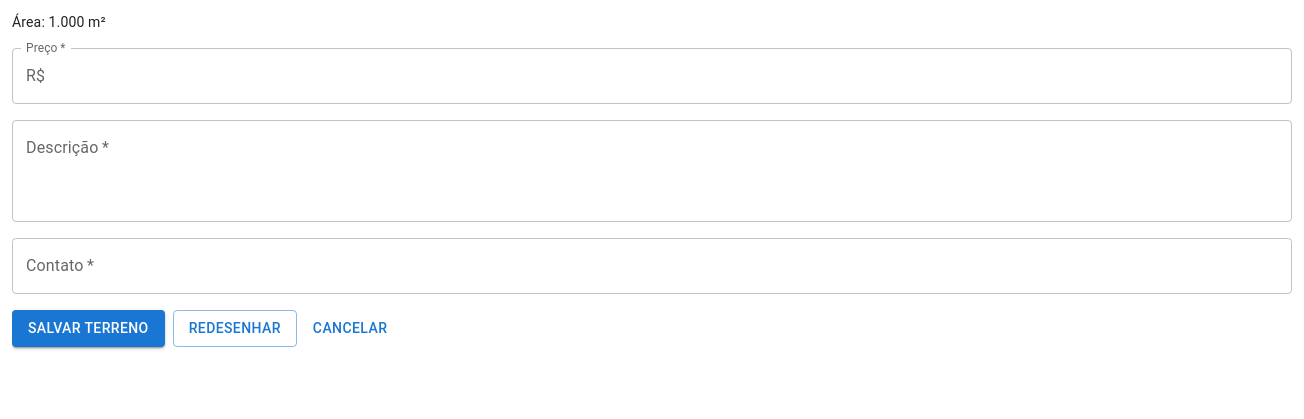
it: PlotForm › shows an API error on its field until the user fixes that field
In the field labelled "Preço *": (673, 76) [53,48,1292,104], type "10"
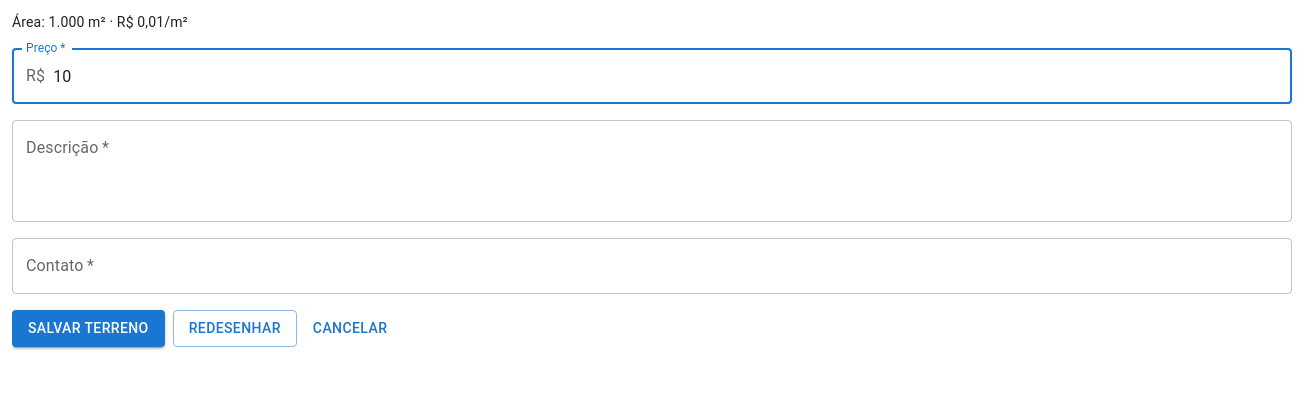
In the text box labelled "Descrição *": (652, 171) [26,136,1278,206], type "Corner plot"
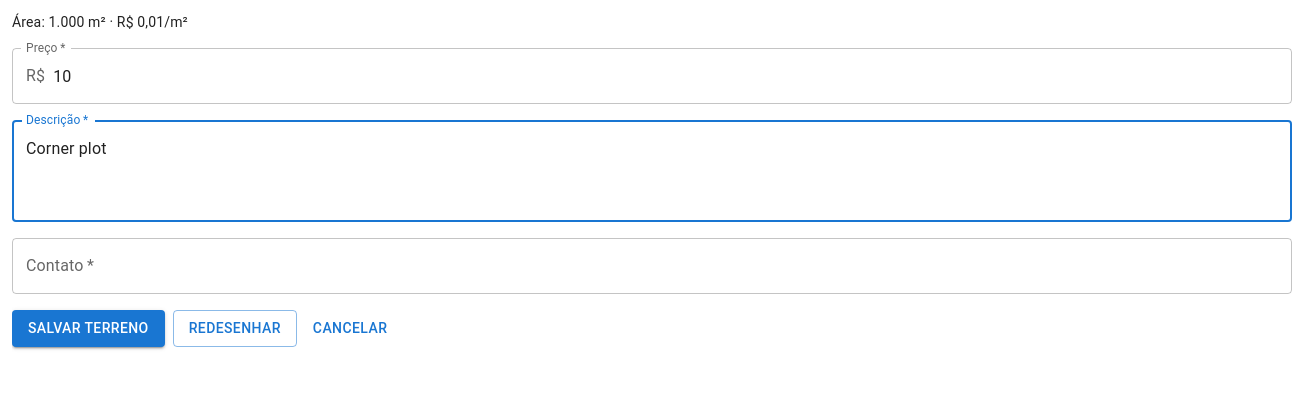
In the field labelled "Contato *": (652, 266) [12,238,1292,294], type "seller@example.com"
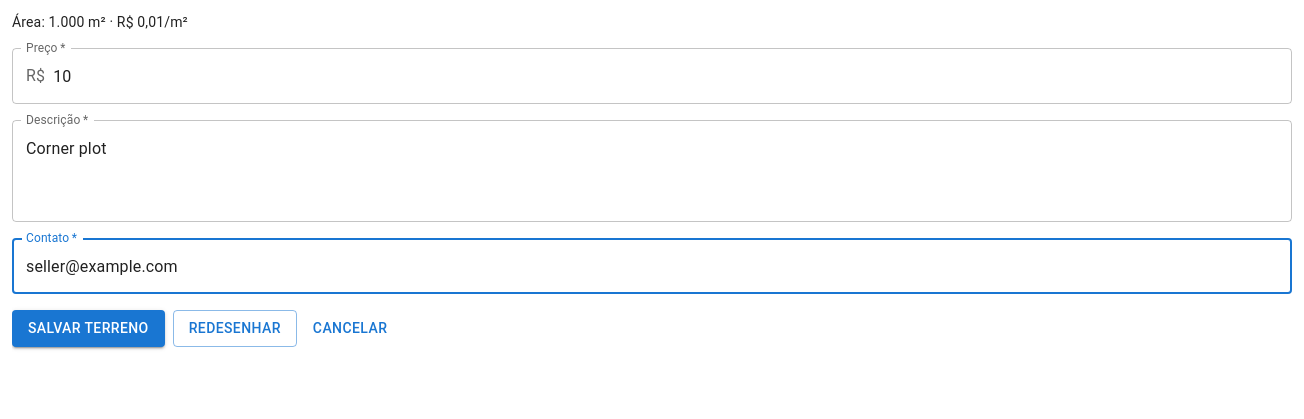
Click the button "Salvar terreno": (88, 328) [12,310,165,346]
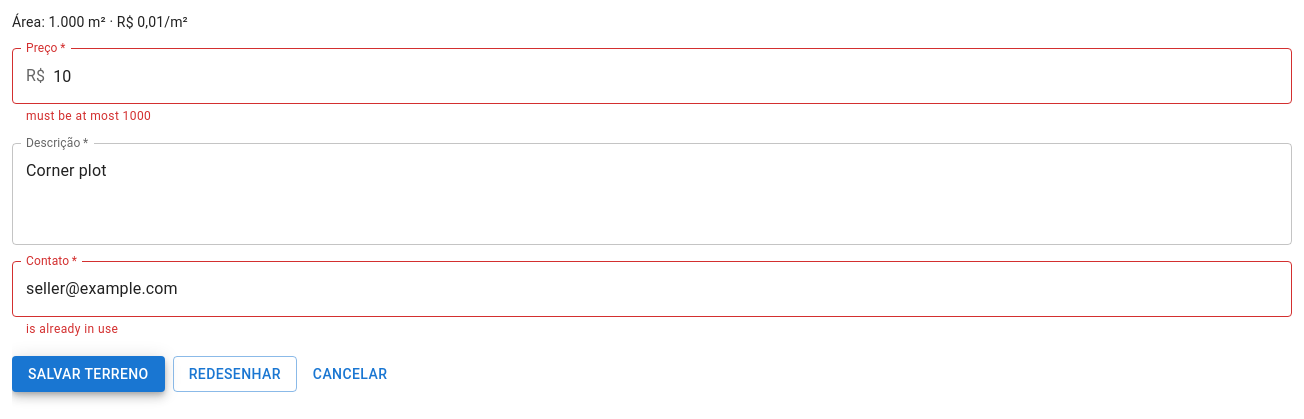
Expected: the text "must be at most 1000" is shown, [26,109,151,123]
In the field labelled "Preço *": (673, 76) [53,48,1292,104], type "0"
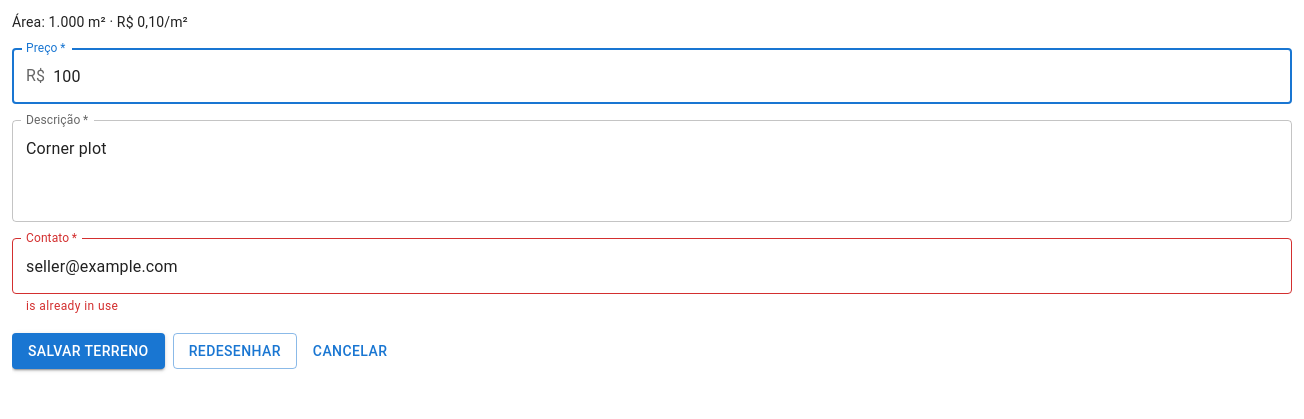
Expected: the text "is already in use" is shown, [26,299,118,313]
Expected: the text "must be at most 1000" is gone
